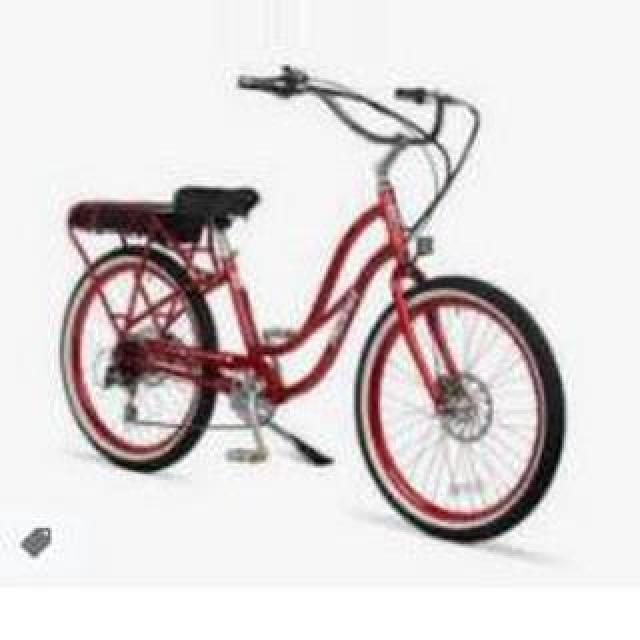Person: (57, 65, 567, 545)
